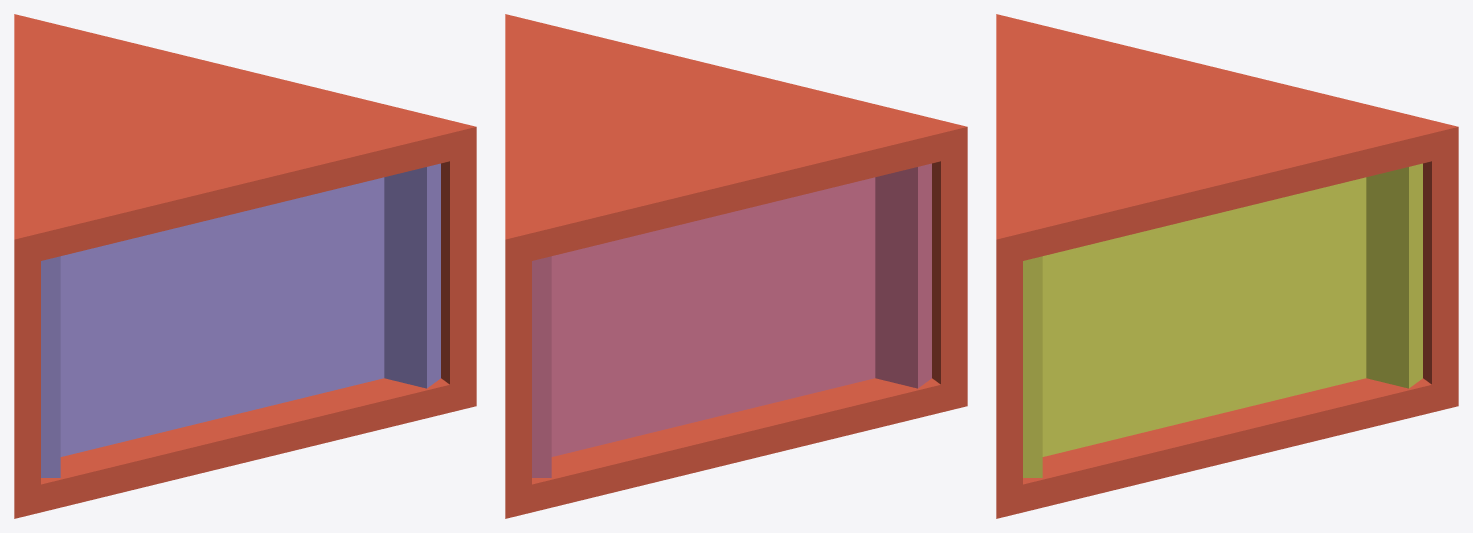
Rendered from FlashBox.fbx.
3 views of the same model, side by side, from view 1: azimuth 30°, elevation 25°; view 2: azimuth 150°, elevation 25°; view 3: azimuth 270°, elevation 25° (orthographic).
Parts seen in each view (by area): view 1: Outer; view 2: Outer; view 3: Outer.
Boxes of the visible parts, left/top/right/bottom form: Outer: left=14, top=14, right=476, bottom=518; Outer: left=505, top=14, right=967, bottom=518; Outer: left=996, top=14, right=1458, bottom=518.
Size of the model in its own units: 173 by 100 by 150.
